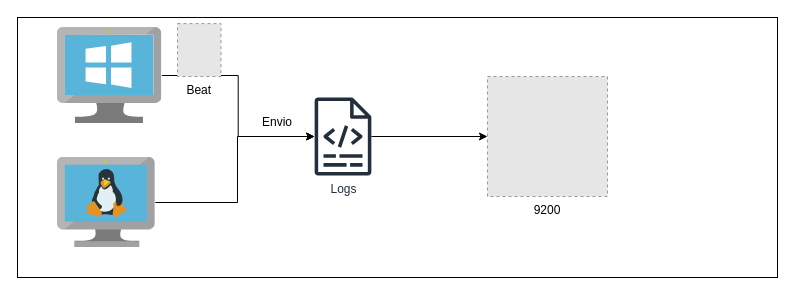
Some shapes in this 795 by 295 pixel diagram are drawn without their labels. Grey dashed boxes stand in for pictures. The shapes that lost their labels are listed below. From the top down, each one's centre as x and y in pixels, then its label:
At (x=109, y=75): "VM WINDOWS".
At (x=106, y=202): "VM SHUFFLE".
